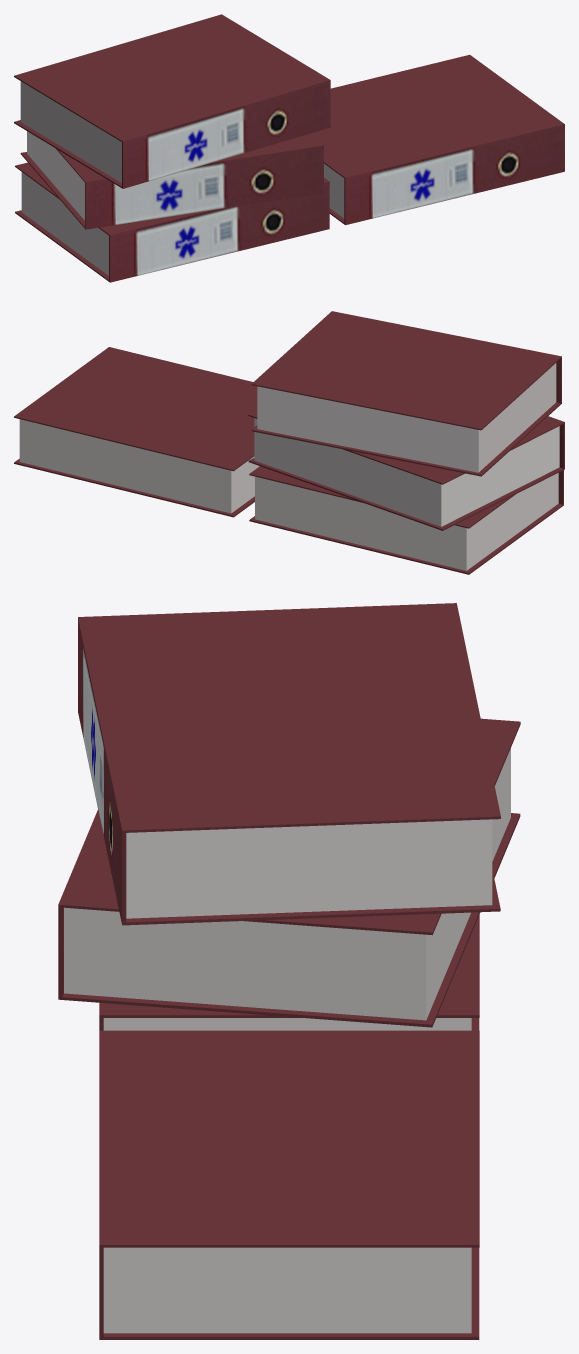
File: Files 3.FBX
The picture shows the model from 3 angles, top to bottom: view 1: azimuth 30°, elevation 25°; view 2: azimuth 150°, elevation 25°; view 3: azimuth 270°, elevation 25°; orthographic projection. The views are drawn at different scales.
Parts seen in each view (by area): view 1: Files 4, Files 3, Files 1, Files 2; view 2: Files 4, Files 3, Files 2, Files 1; view 3: Files 4, Files 3, Files 2, Files 1.
Boxes of the visible parts, left/top/right/bottom form: Files 4: left=14, top=14, right=330, bottom=188; Files 3: left=313, top=54, right=564, bottom=225; Files 1: left=15, top=162, right=329, bottom=282; Files 2: left=20, top=131, right=323, bottom=229; Files 4: left=251, top=311, right=561, bottom=476; Files 3: left=14, top=347, right=259, bottom=517; Files 2: left=248, top=410, right=564, bottom=530; Files 1: left=249, top=466, right=563, bottom=574; Files 4: left=78, top=603, right=500, bottom=925; Files 3: left=99, top=1030, right=479, bottom=1339; Files 2: left=58, top=718, right=520, bottom=1027; Files 1: left=99, top=914, right=479, bottom=1030.
Size of the model in its own units: 51.41 by 15.04 by 22.03.
Materials: 1 (1 with a texture image).
